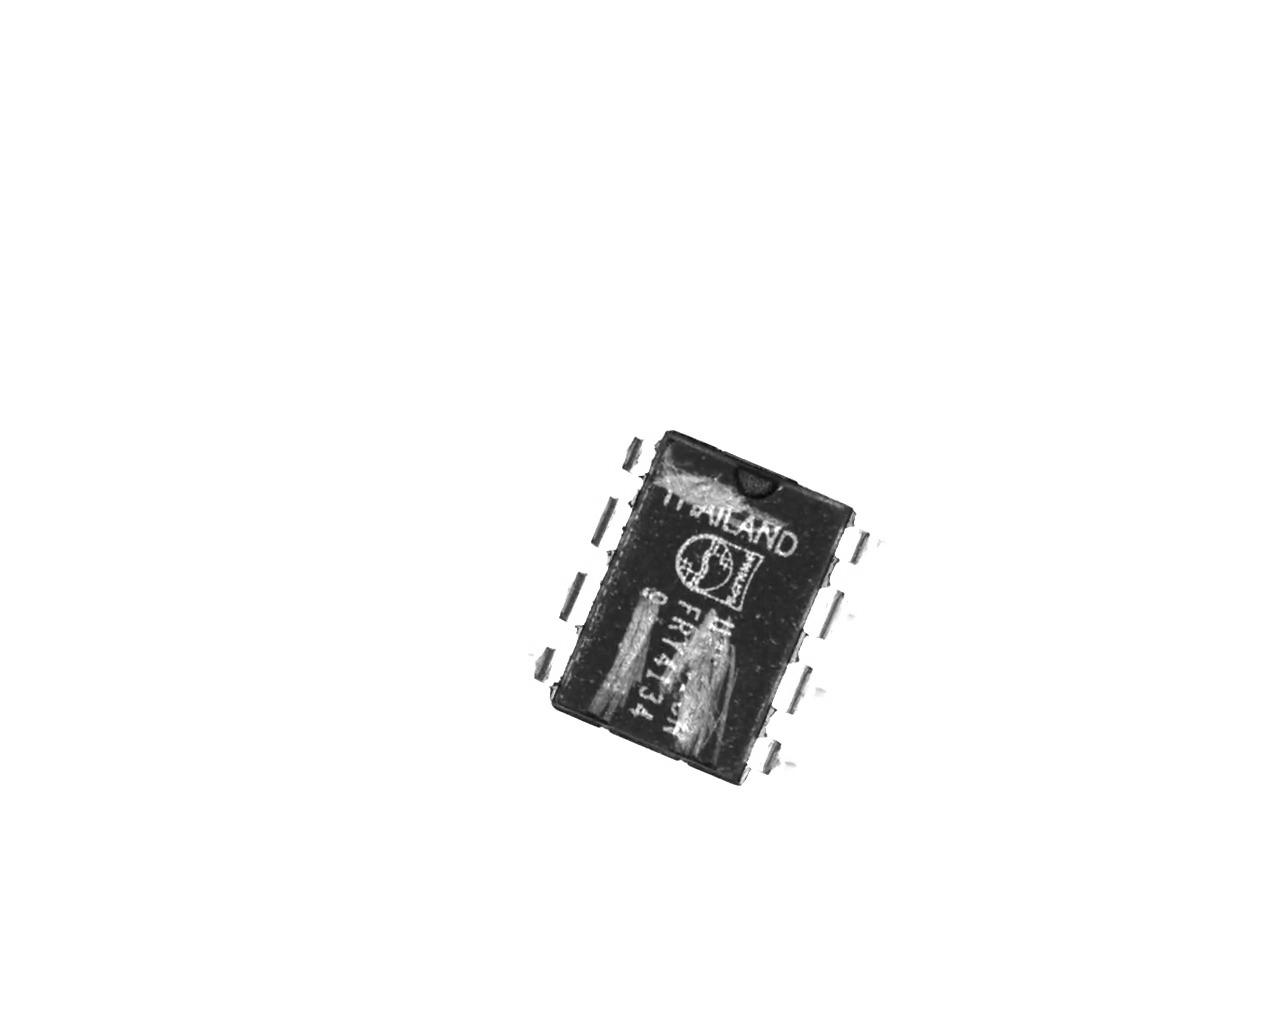Leg: (582, 484, 637, 553), (782, 654, 835, 724), (811, 576, 860, 651), (749, 723, 806, 786), (558, 567, 607, 633), (842, 518, 889, 579), (535, 637, 571, 692), (613, 433, 648, 474)
